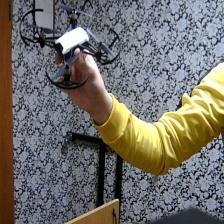drone: (17, 0, 124, 94)
